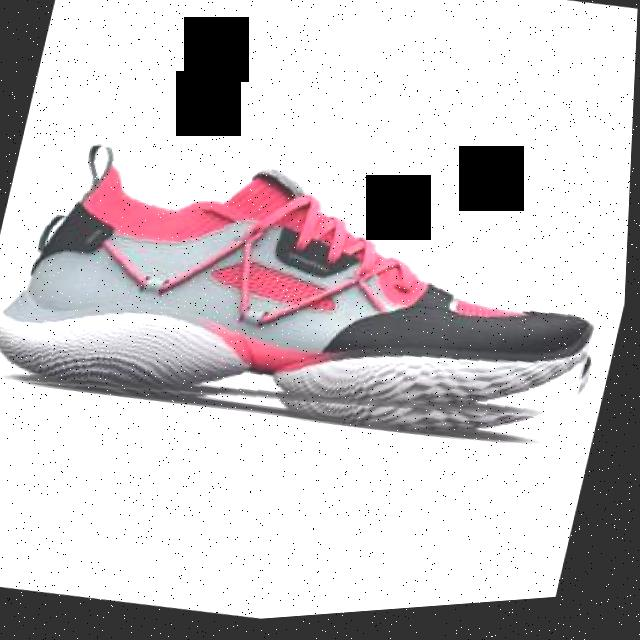shoe: (0, 106, 634, 495)
